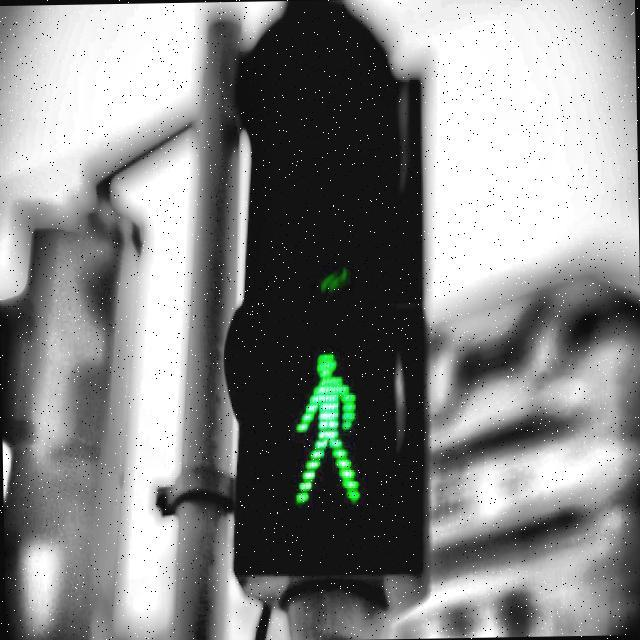green_light: (287, 345, 363, 508)
